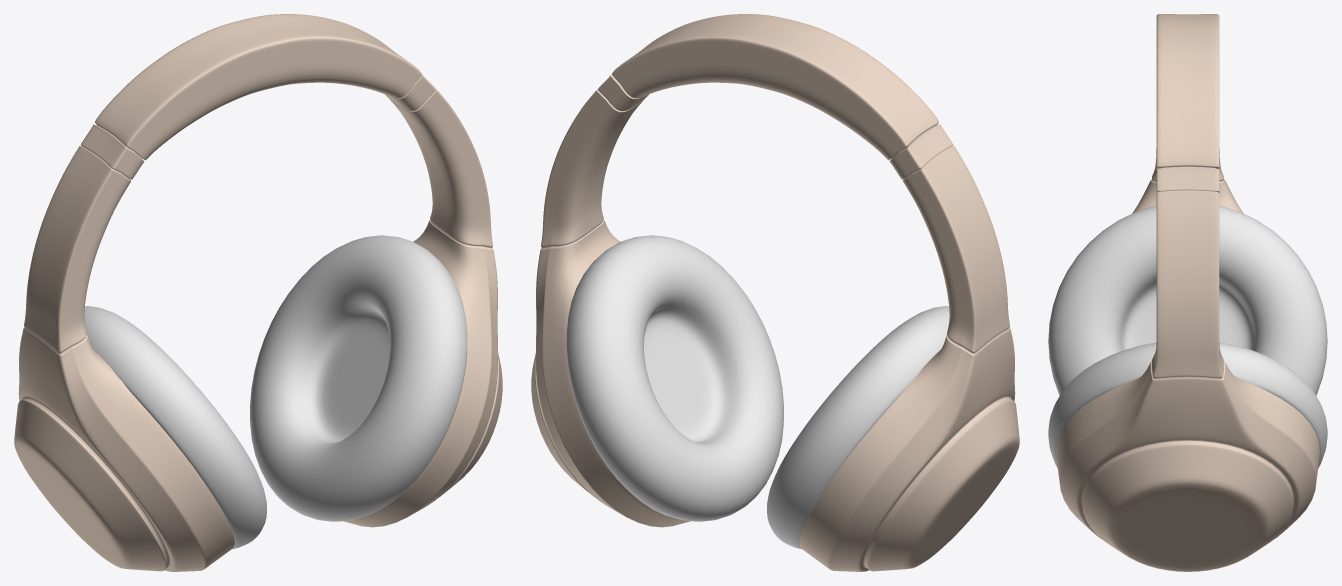
File: headphone.fbx
The picture shows the model from 3 angles, left to right: view 1: azimuth 30°, elevation 25°; view 2: azimuth 150°, elevation 25°; view 3: azimuth 270°, elevation 25°; orthographic projection. The views are drawn at different scales.
Parts seen in each view (by area): view 1: headphone, Circle; view 2: headphone, Circle; view 3: headphone, Circle.
Part boxes in pixels (left/top/right/bottom): headphone: left=14, top=14, right=502, bottom=571; Circle: left=84, top=235, right=467, bottom=549; headphone: left=531, top=14, right=1019, bottom=571; Circle: left=566, top=235, right=949, bottom=549; headphone: left=1056, top=14, right=1319, bottom=571; Circle: left=1048, top=206, right=1327, bottom=467.
Size of the model in its own units: 370 by 397 by 209.
